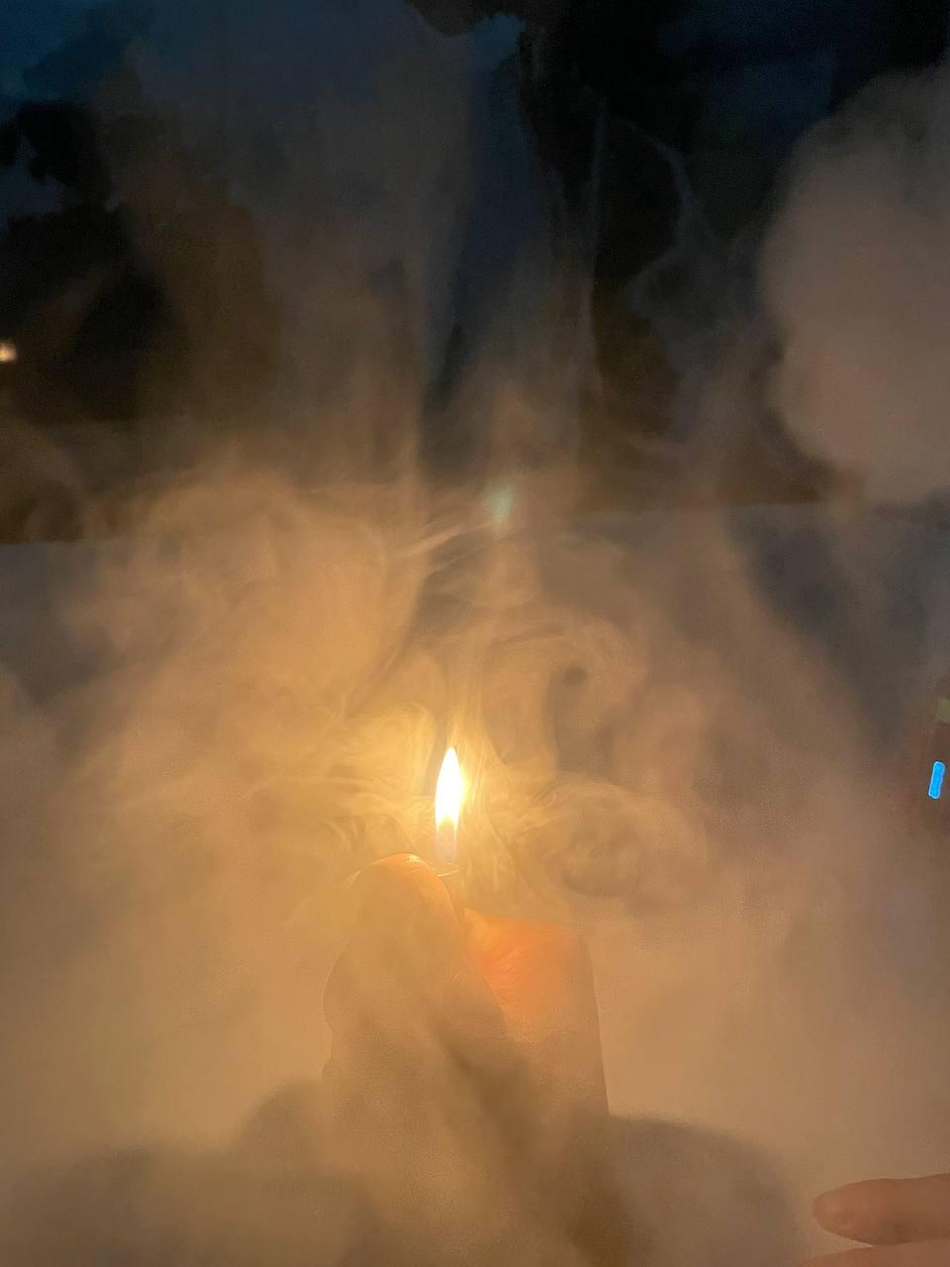fire: (420, 729, 492, 869)
smoke: (0, 0, 950, 1267)
